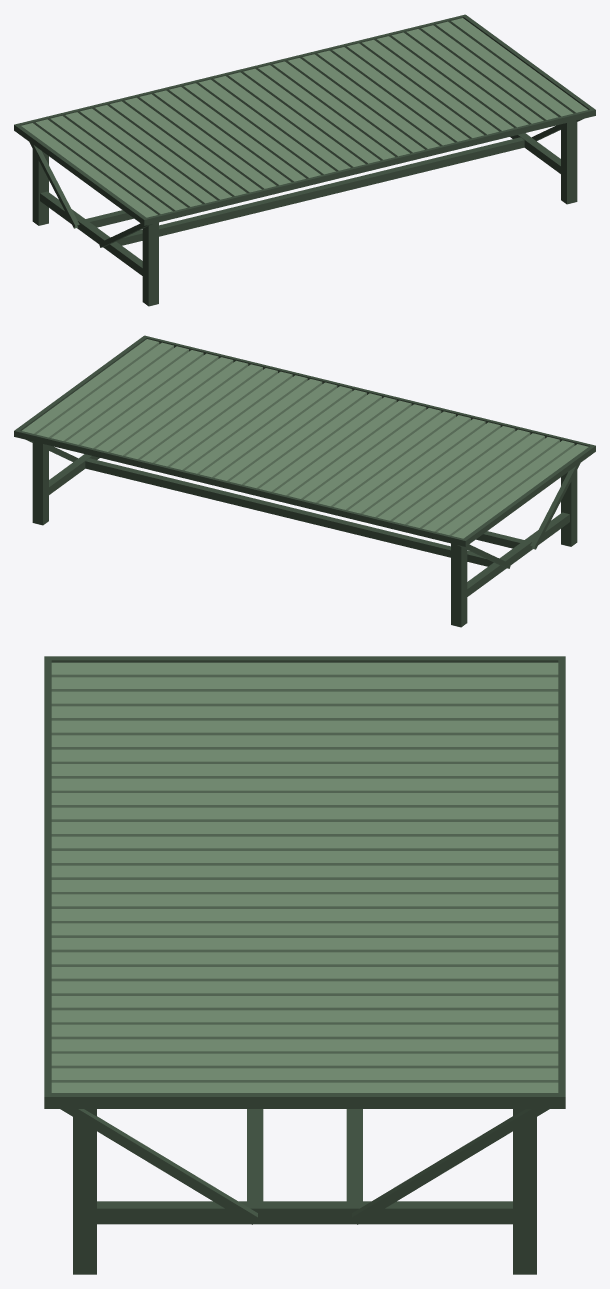
The model's file is Mesa_espectropolarimetro_01.fbx.
3 renders of one model, top to bottom at view 1: azimuth 30°, elevation 25°; view 2: azimuth 150°, elevation 25°; view 3: azimuth 270°, elevation 25°, orthographic. The views are drawn at different scales.
Parts seen in each view (by area): view 1: Mesa_espectropolarimetro; view 2: Mesa_espectropolarimetro; view 3: Mesa_espectropolarimetro.
Part boxes in pixels (x1,y1,x2,y2): Mesa_espectropolarimetro: (14,14,595,306); Mesa_espectropolarimetro: (14,335,595,627); Mesa_espectropolarimetro: (44,656,565,1274).
Size of the model in its own units: 400 by 80 by 200.
